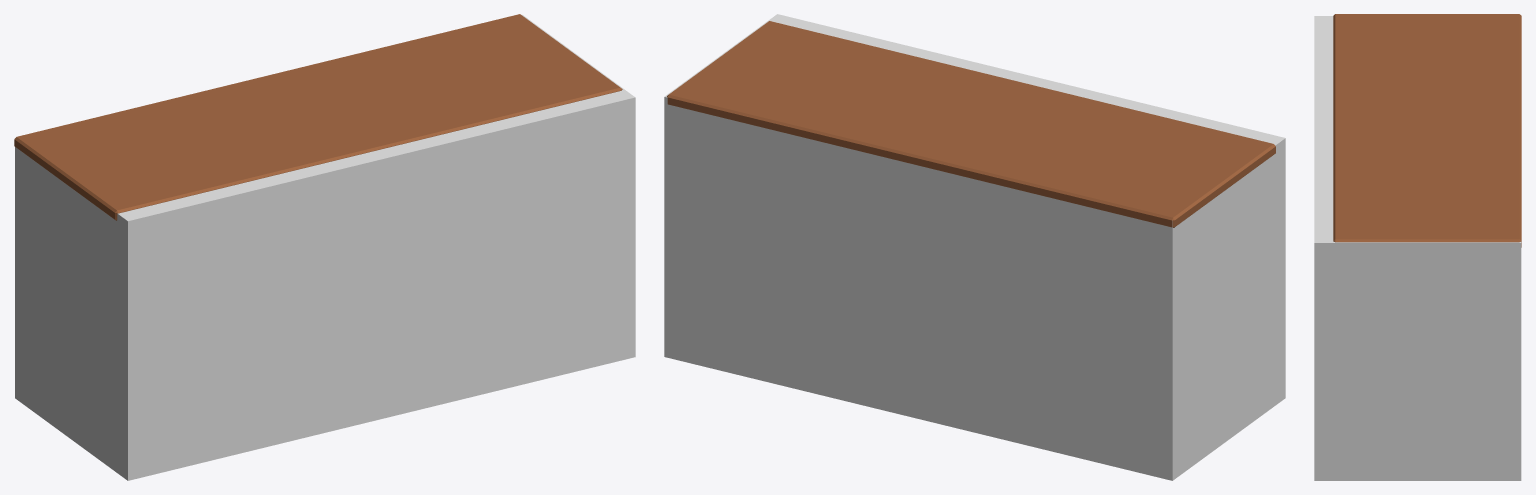
The model's file is drawer-a.glb.
3 views of the same model, side by side, from view 1: azimuth 30°, elevation 25°; view 2: azimuth 150°, elevation 25°; view 3: azimuth 270°, elevation 25° (orthographic). The views are drawn at different scales.
Visible parts, largest first — view 1: Drawer A_col, Drawer A; view 2: Drawer A_col, Drawer A; view 3: Drawer A_col, Drawer A.
Part boxes in pixels (box(x1,y1,x2,y2)): Drawer A_col: box(15, 15, 635, 480); Drawer A: box(14, 14, 622, 220); Drawer A_col: box(664, 14, 1285, 480); Drawer A: box(667, 21, 1275, 227); Drawer A_col: box(1314, 16, 1521, 480); Drawer A: box(1333, 14, 1521, 247).
Bounding box in the file's own units: 7.75 × 3.81 × 2.98.
